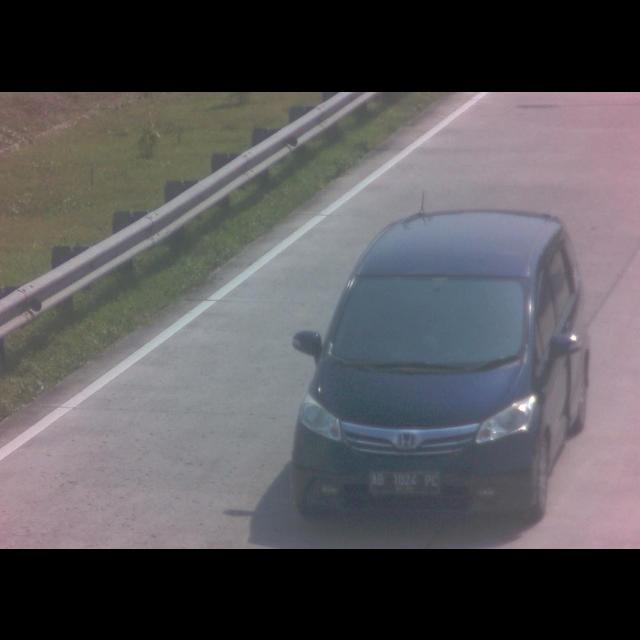plate: (368, 470, 440, 494)
